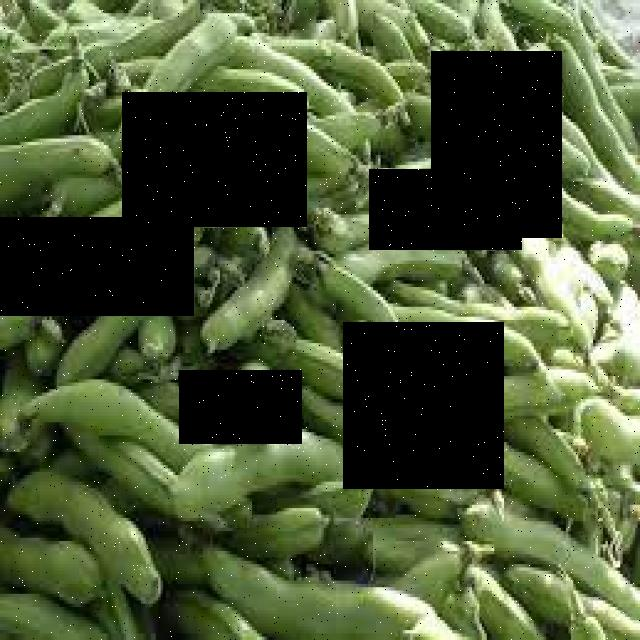Broad_Beans: (343, 322, 504, 489), (122, 92, 307, 227), (431, 51, 562, 238), (0, 217, 194, 316), (369, 169, 522, 250), (179, 370, 302, 444)
